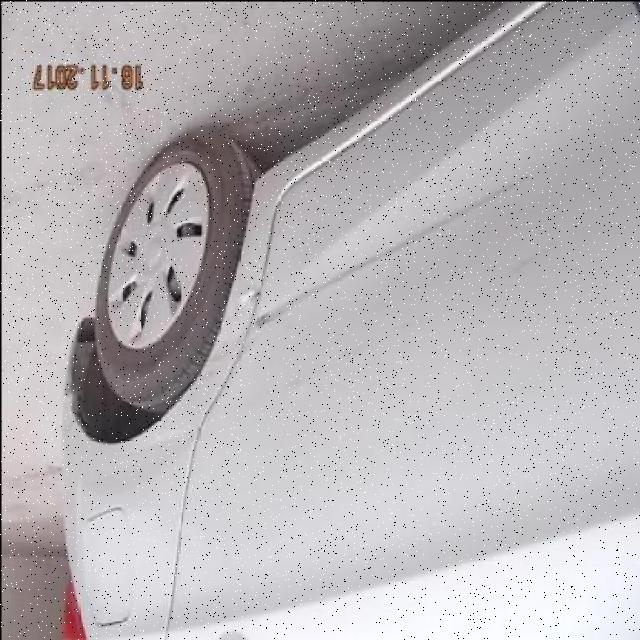damage: (207, 170, 530, 378), (237, 325, 420, 414), (502, 223, 589, 275), (231, 280, 261, 309)
